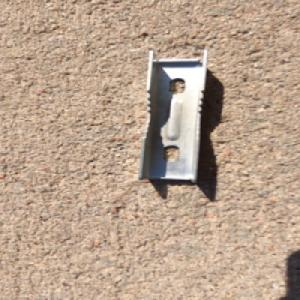ClampPart: (137, 45, 210, 185)
